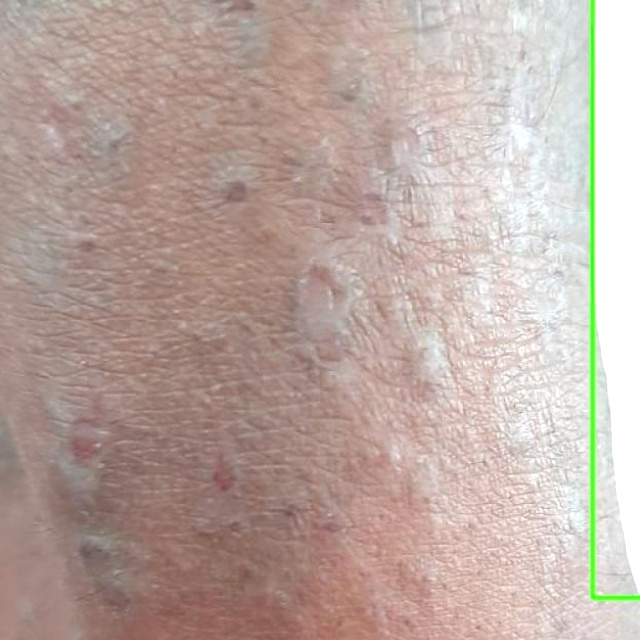Atopic Dermatitis: (592, 0, 639, 597)
